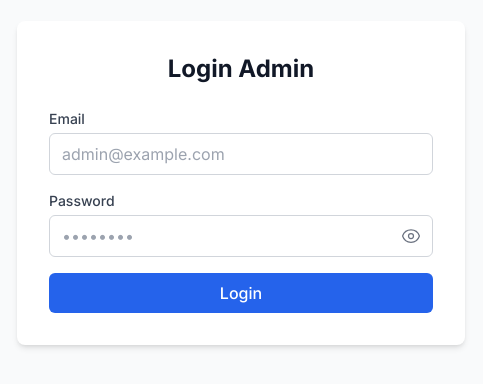
Test: AdminLoginPage › clears error message on new submit attempt
Type "wrong@test.com" into the field labelled "Email" at (241,154), box x1=49 y1=133 x2=433 y2=175
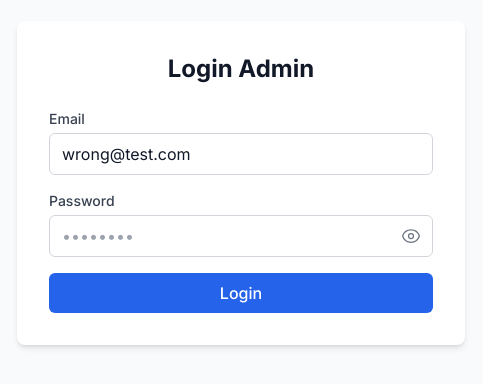
Type "wrongpass" into the password field labelled "Password" at (241,236), box x1=49 y1=215 x2=433 y2=257
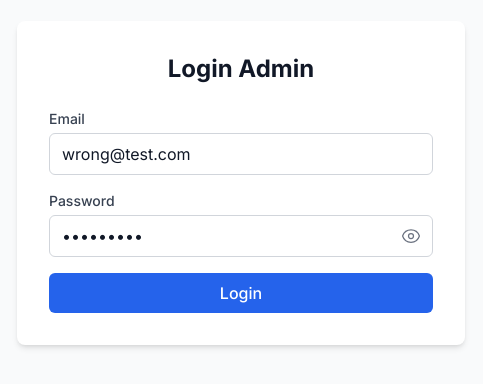
Click the button "Login" at (241,293), box x1=49 y1=273 x2=433 y2=313
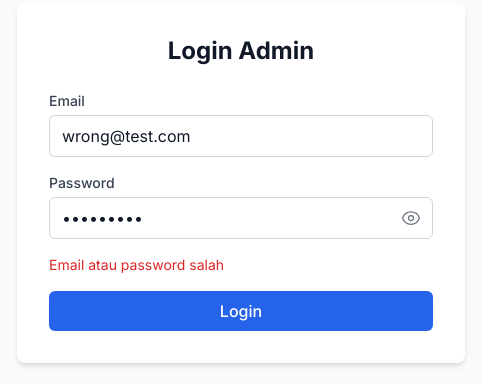
Check: the text "Email atau password salah" is shown, box x1=49 y1=256 x2=224 y2=273
Replace the text in the field labelled "Email" with "admin@test.com" at (241,136), box x1=49 y1=115 x2=433 y2=157
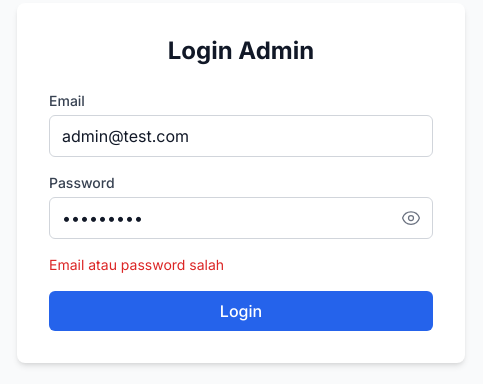
Type "password123" into the password field labelled "Password" at (241,218), box x1=49 y1=197 x2=433 y2=239
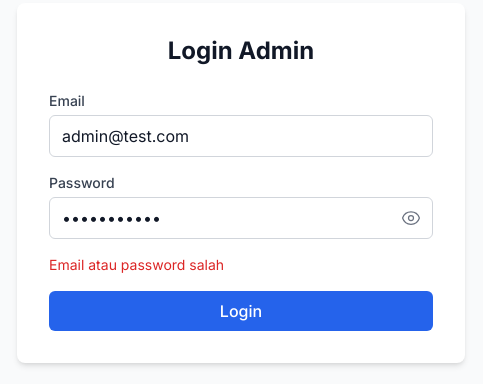
Click the button "Login" at (241,311), box x1=49 y1=291 x2=433 y2=331
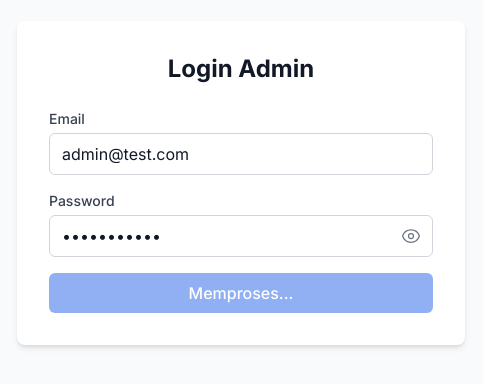
Check: the text "Email atau password salah" is gone
